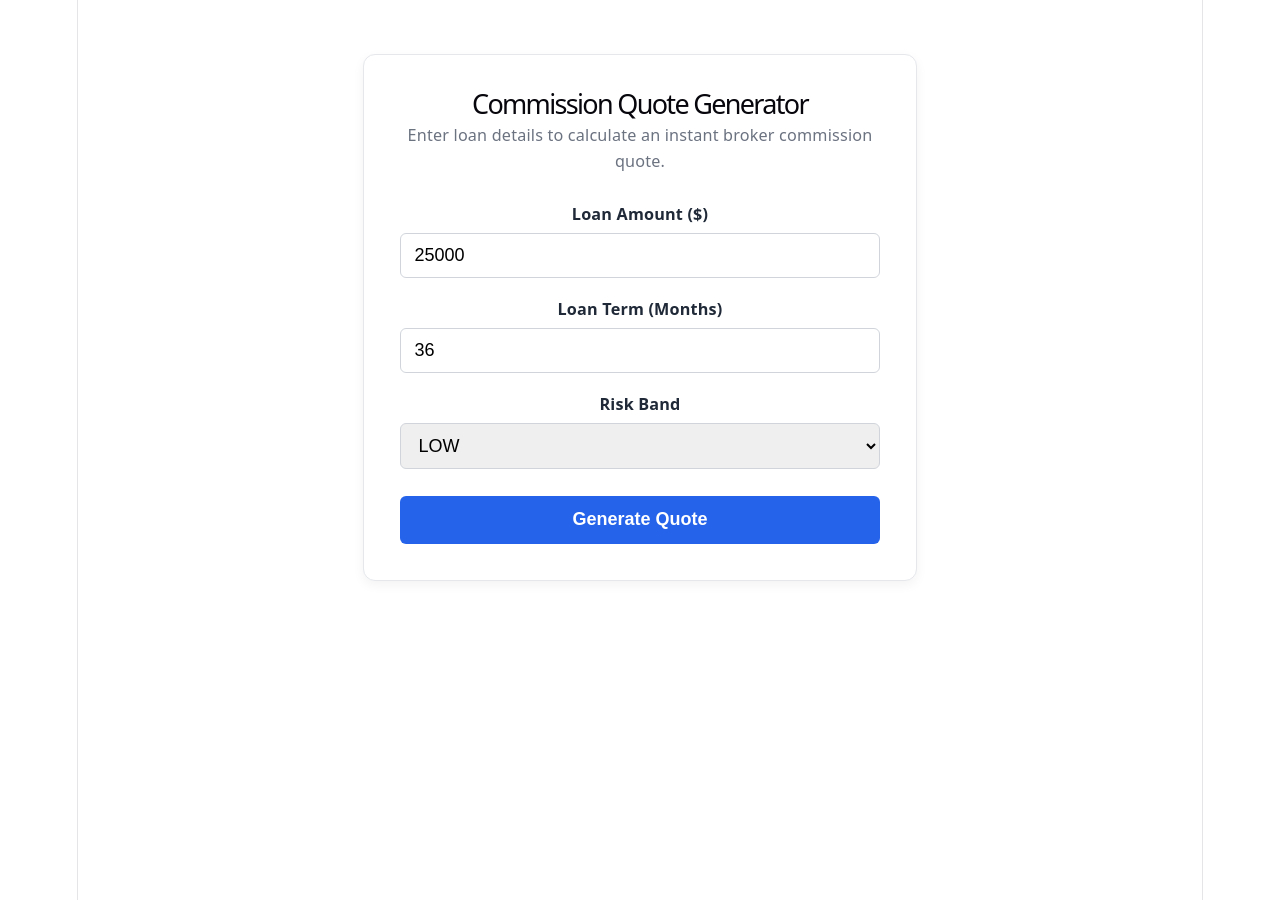
Test case: Commission Quote Generator App › displays an error message when the API fails and allows retry
The image size is (1280, 900).
Click the button "Generate Quote": (640, 520) [400,496,880,544]
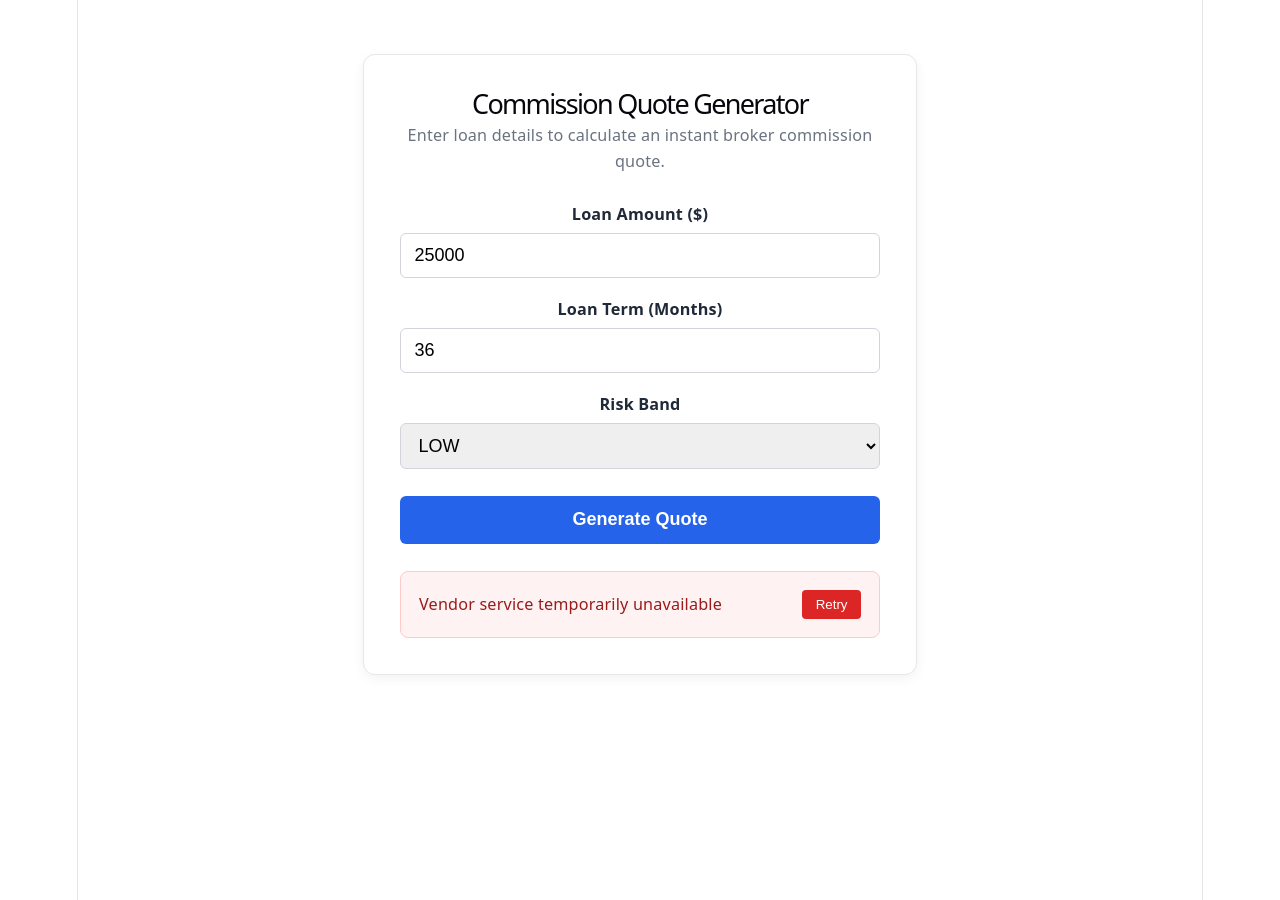
Expected: the message shows "Vendor service temporarily unavailable", [419,593,722,615]
Click the button "Retry": (832, 604) [802,590,861,619]
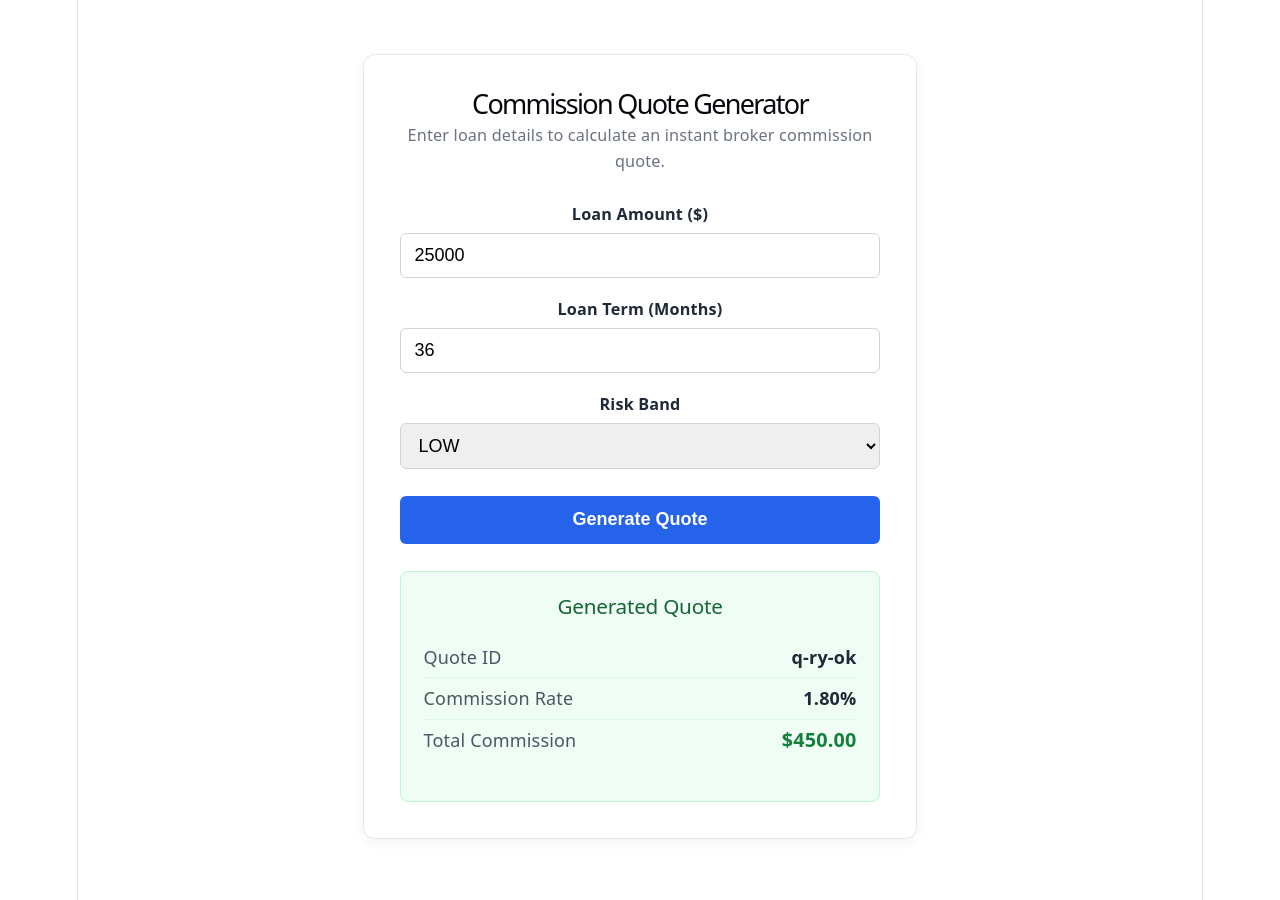
Expected: the text "q-ry-ok" is shown, [792,644,856,670]
